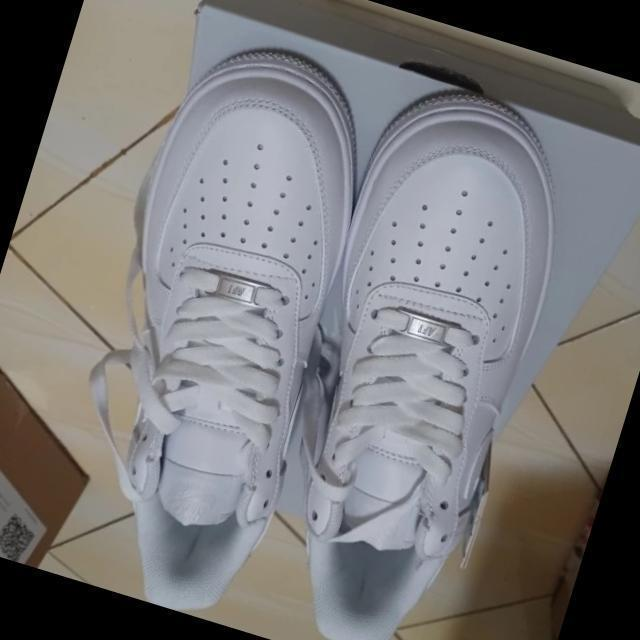nike original air force: (229, 71, 626, 640), (32, 35, 409, 630)
